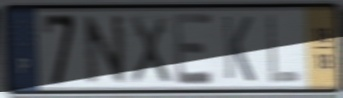7: (42, 11, 78, 88)
E: (171, 10, 217, 87)
K: (220, 13, 257, 84)
L: (265, 11, 303, 86)
N: (80, 12, 128, 87)
X: (128, 13, 173, 86)
